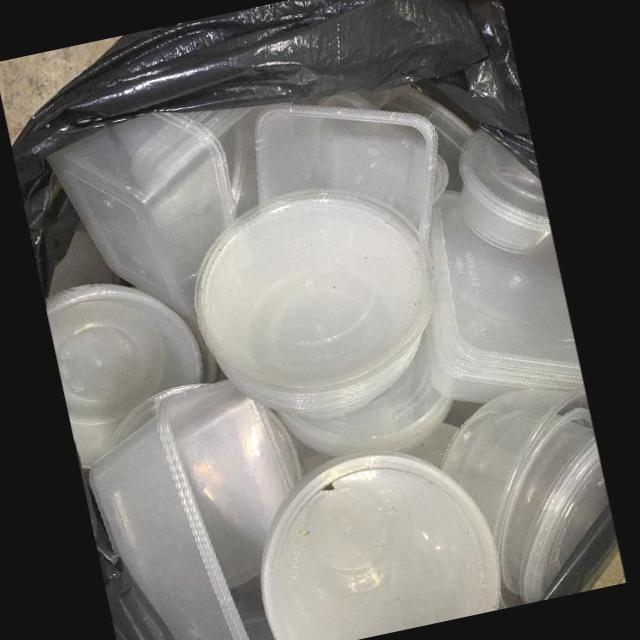hop_nhua: (86, 381, 306, 640), (194, 192, 432, 419), (260, 454, 501, 640), (46, 112, 237, 326), (440, 387, 609, 609), (424, 193, 584, 404), (46, 283, 205, 469), (254, 105, 438, 240), (275, 347, 452, 458), (458, 129, 553, 257)
